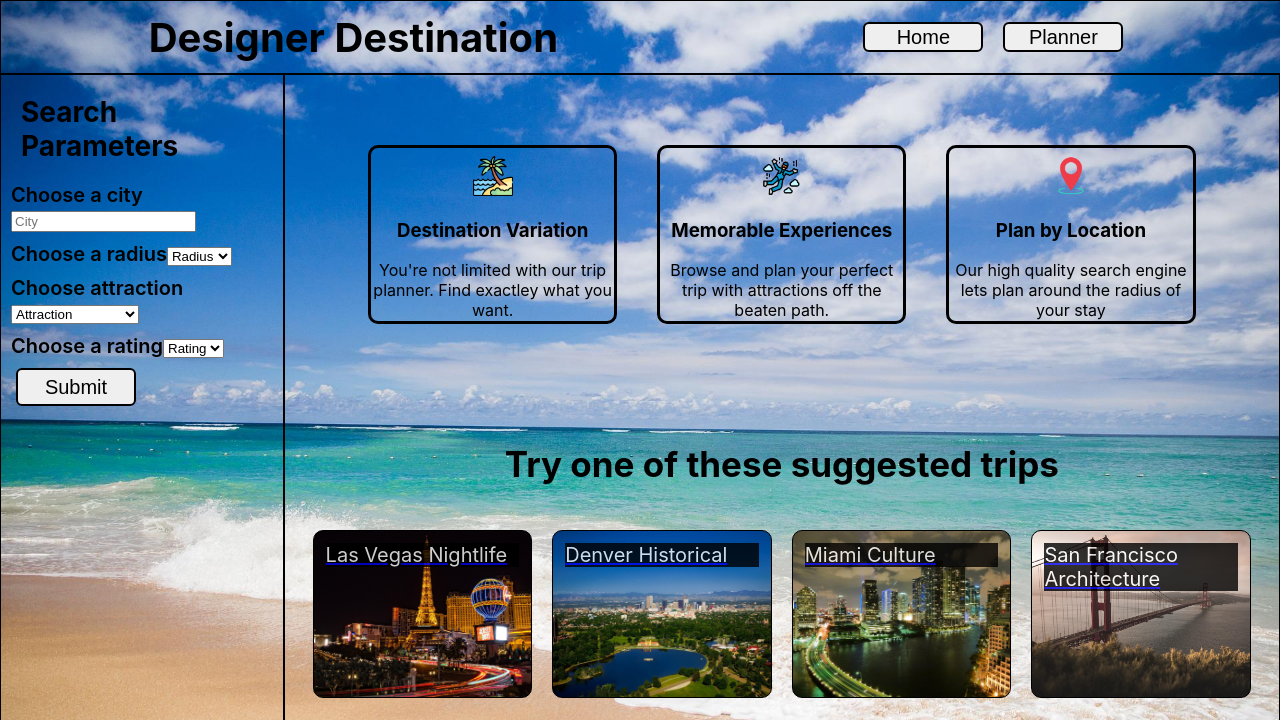
Scenario: Attractions dashboard user flows › should display an error message if not all inputs have been filled out
The width and height of the screenshot is (1280, 720).
Click the button with class "form-button". click: [76, 387]
box: [16,368,136,406]
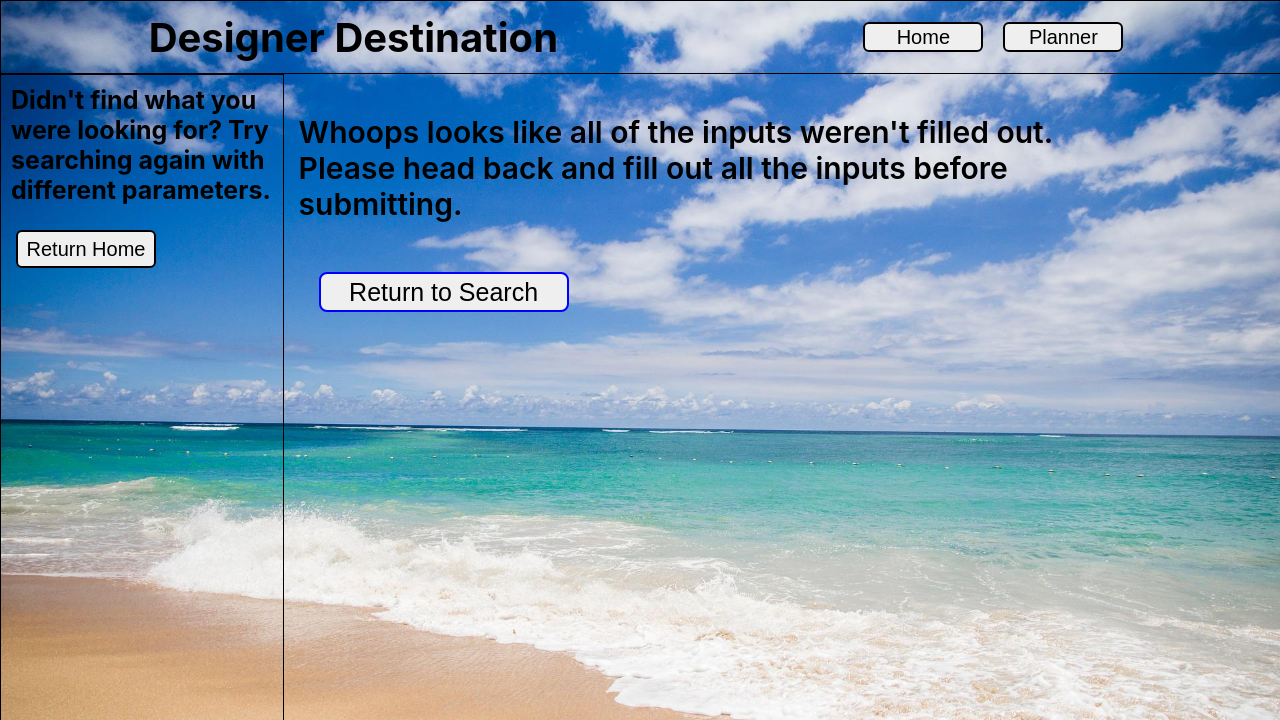
Expected: the text "Whoops looks like all of the inputs weren't filled out. Please head back and fill out all the inputs before submitting." is shown, [299,114,1067,222]
Expected: the button with class "attraction-button" reads "Return to Search", [319,272,569,312]
Expected: the text with class "attraction-aside-text" shows "Didn't find what you were looking for? Try searching again with different parameters.", [11,85,273,205]
